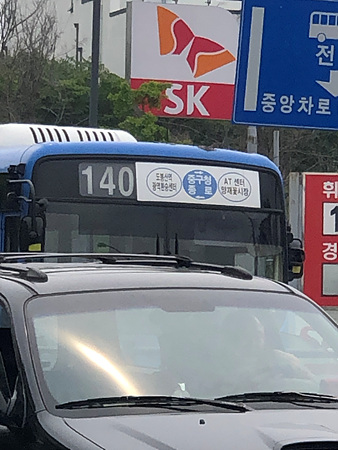bnum: (79, 162, 138, 198)
